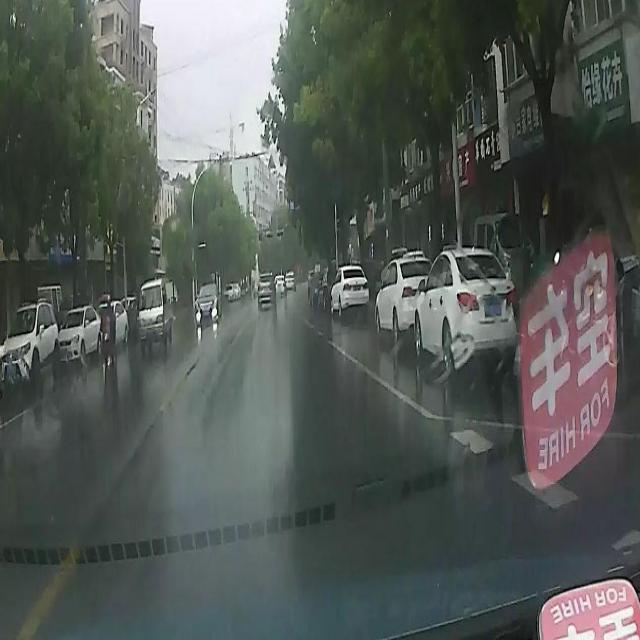car: (414, 244, 517, 378), (374, 254, 437, 338), (0, 299, 61, 377), (136, 277, 172, 345), (58, 303, 100, 360), (330, 262, 370, 315), (95, 302, 128, 345), (194, 281, 222, 321), (318, 267, 340, 310), (256, 272, 276, 304), (274, 275, 287, 294), (286, 267, 296, 290), (224, 284, 236, 302)
